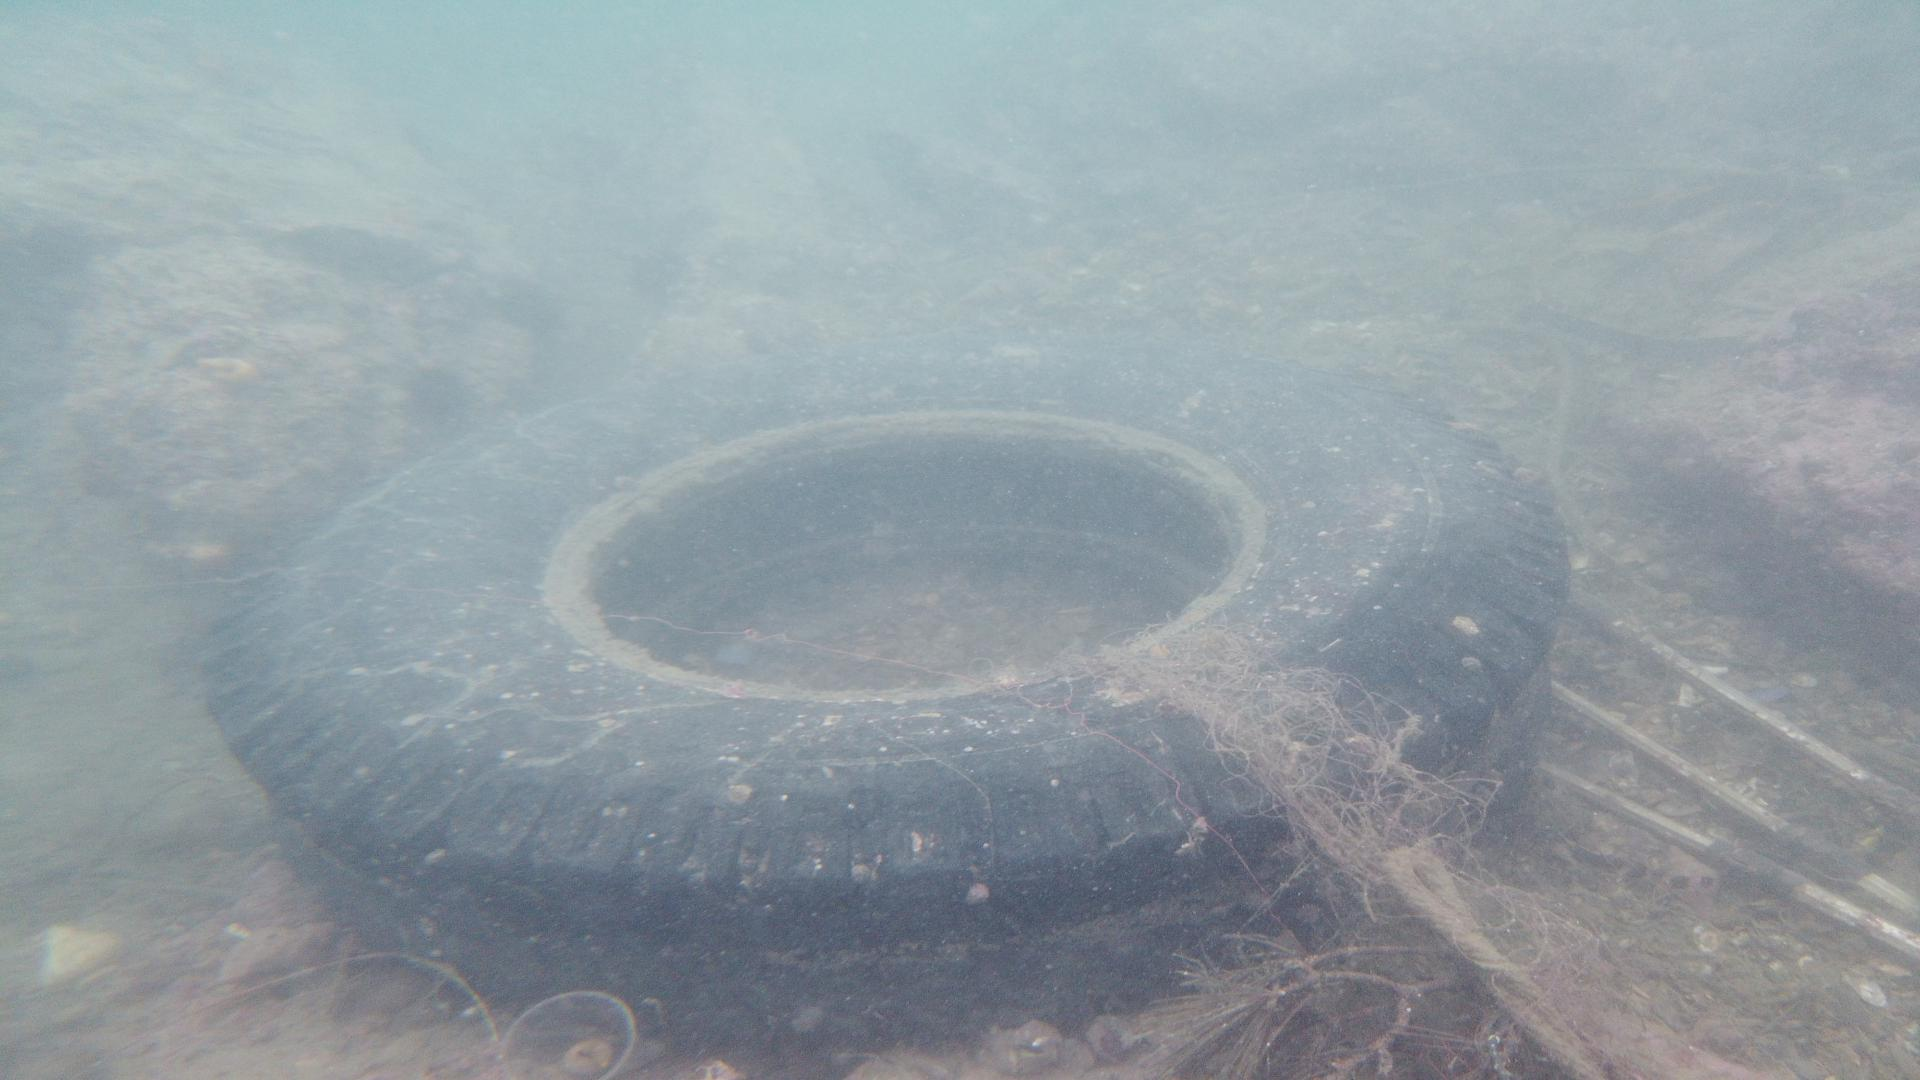rope: (1378, 833, 1615, 1080)
tire: (208, 331, 1575, 1040)
